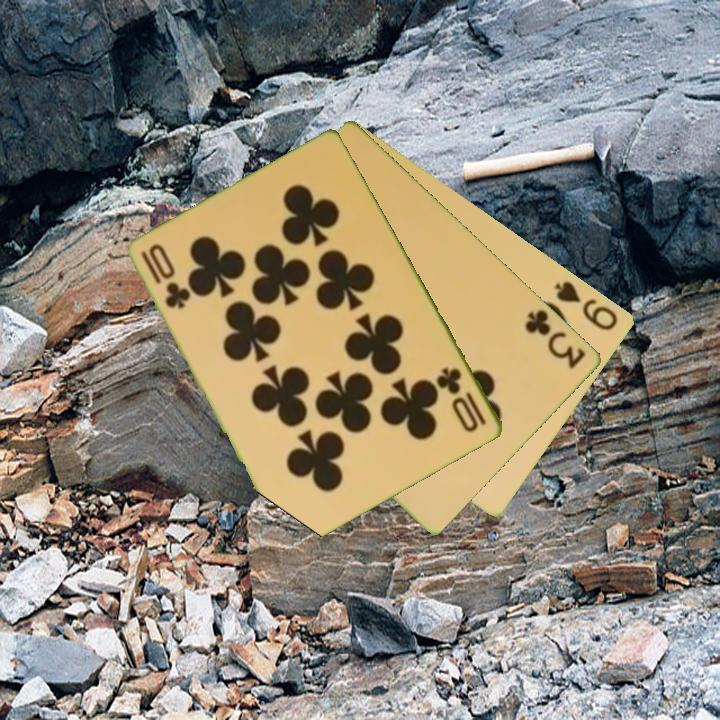10c: (433, 364, 490, 436), (138, 240, 192, 312)
3c: (521, 306, 589, 372)
9s: (552, 277, 622, 334)
